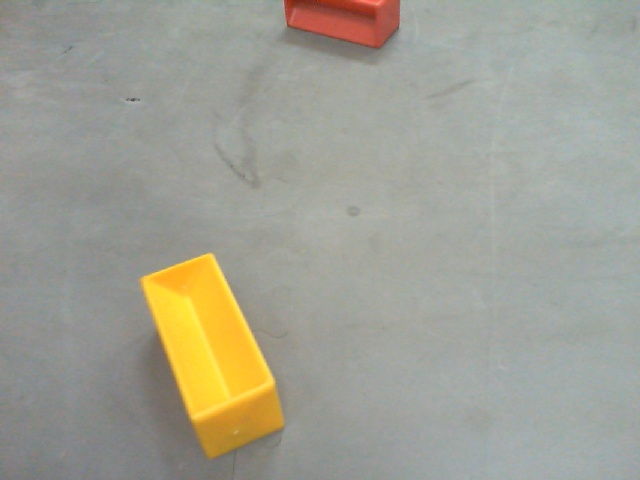RedSample: (283, 1, 402, 52)
YellowSample: (143, 255, 284, 452)
